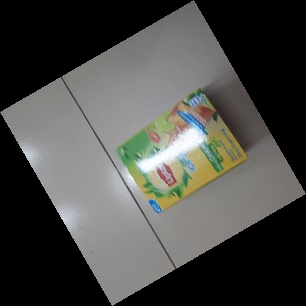LipTon: (115, 90, 248, 214)
